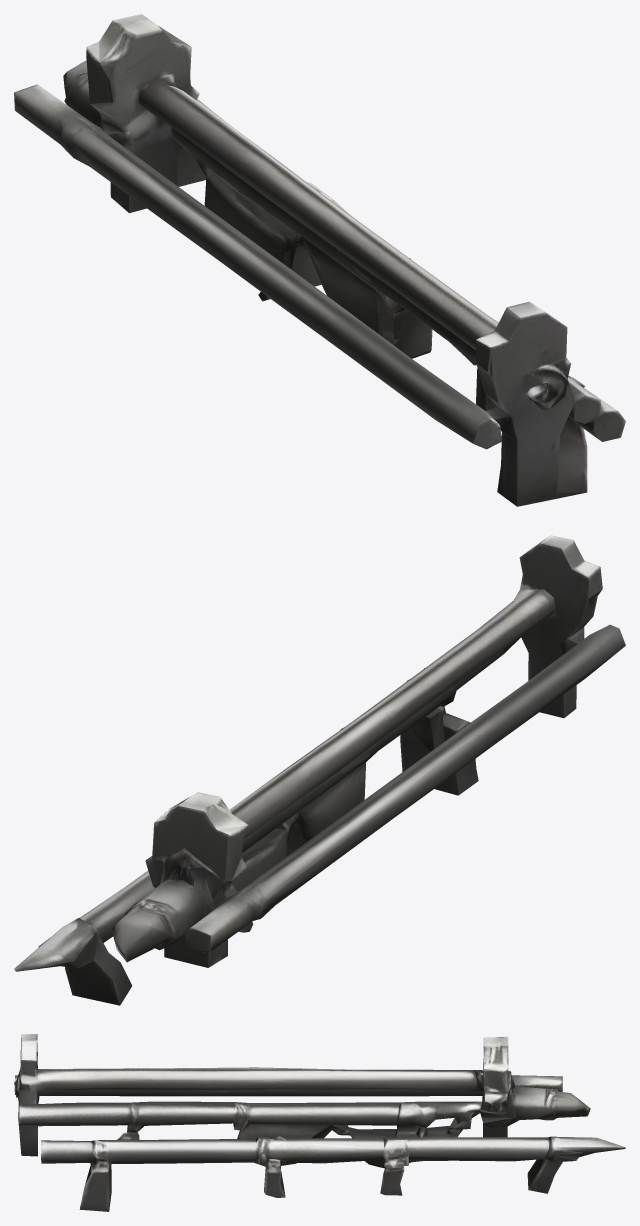
File: m2RailSegmentV2.glb
The picture shows the model from 3 angles, top to bottom: view 1: azimuth 30°, elevation 25°; view 2: azimuth 150°, elevation 25°; view 3: azimuth 270°, elevation 25°; orthographic projection. The views are drawn at different scales.
Visible parts, largest first — view 1: model; view 2: model; view 3: model.
Boxes of the visible parts, left/top/right/bottom form: model: left=14, top=14, right=625, bottom=506; model: left=14, top=535, right=625, bottom=1005; model: left=14, top=1034, right=625, bottom=1211.
Bounding box in the file's own units: 0.3875 × 0.4965 × 1.91.
Materials: 1 (1 with a texture image).
